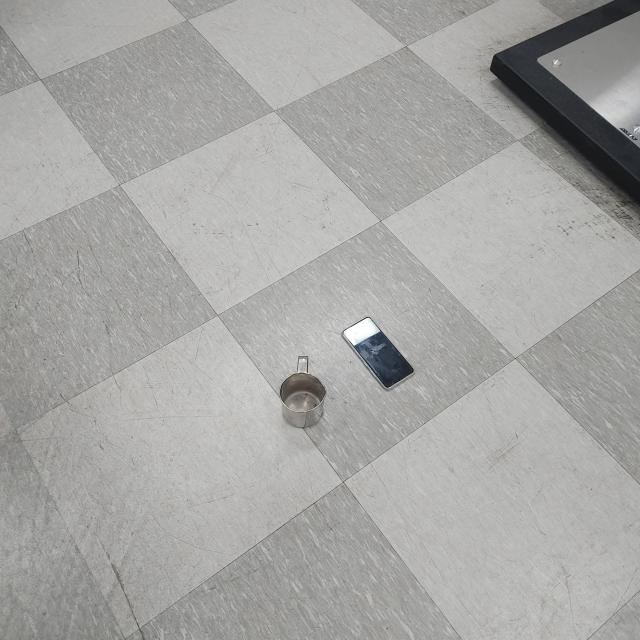cup: (276, 356, 328, 426)
phone: (342, 315, 415, 390)
